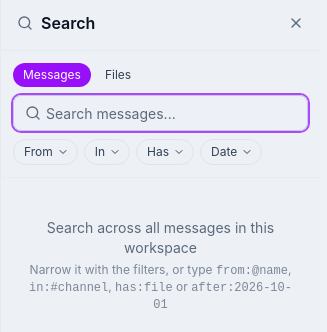
Scenario: SearchPanel › switches to Files when type: is typed
The image size is (327, 332).
Type "budget type:pdf" into the field.
click(160, 113); type("budget type:pdf")  # box [13,95,308,131]
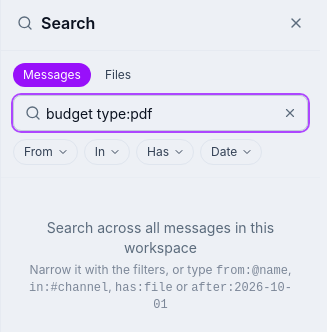
Press Enter in the field, box [13,95,308,131]
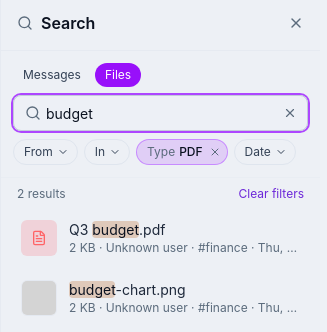
Expected: the button with test id "search-filter-type" shows "PDF", [137,140,211,164]
